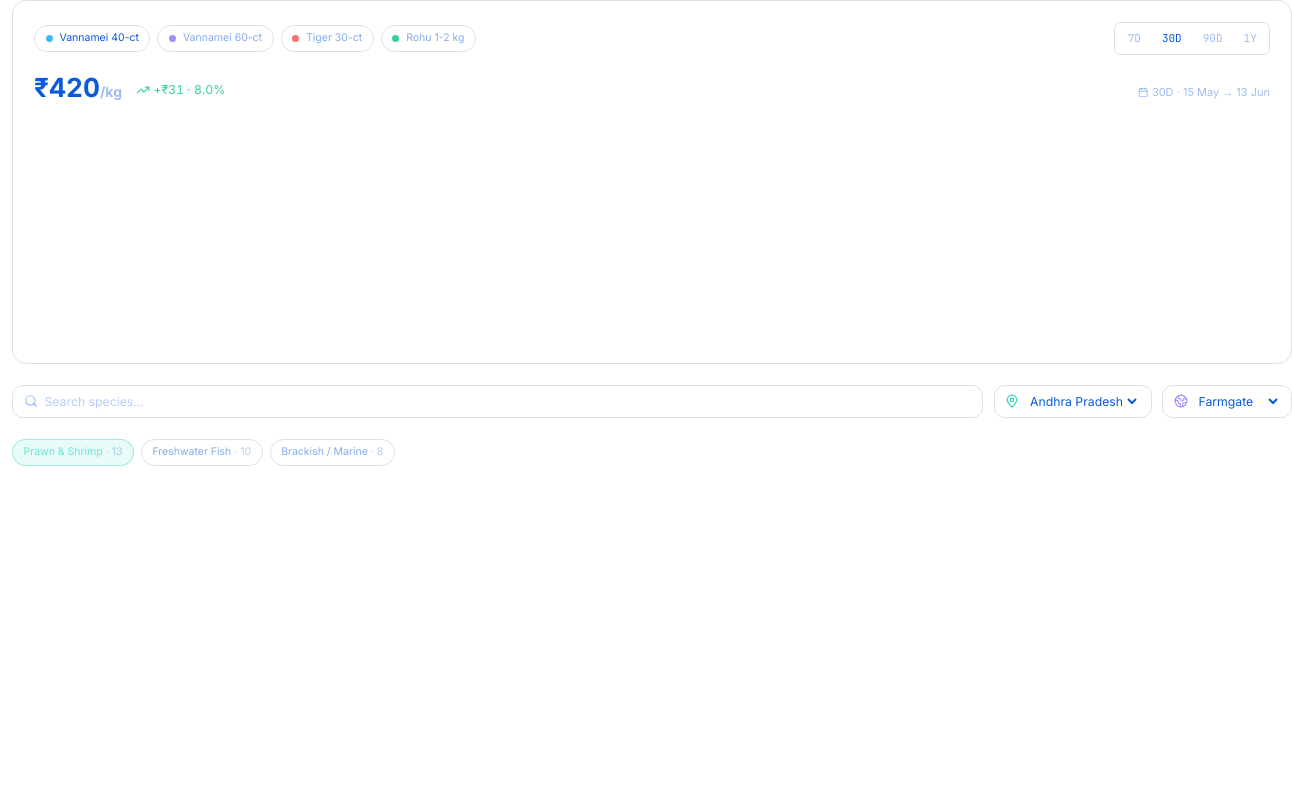
Test: <PricingModule /> › search filters the price table
In the field with placeholder "Search species…": (508, 401) [44,392,972,410], type "vannamei"
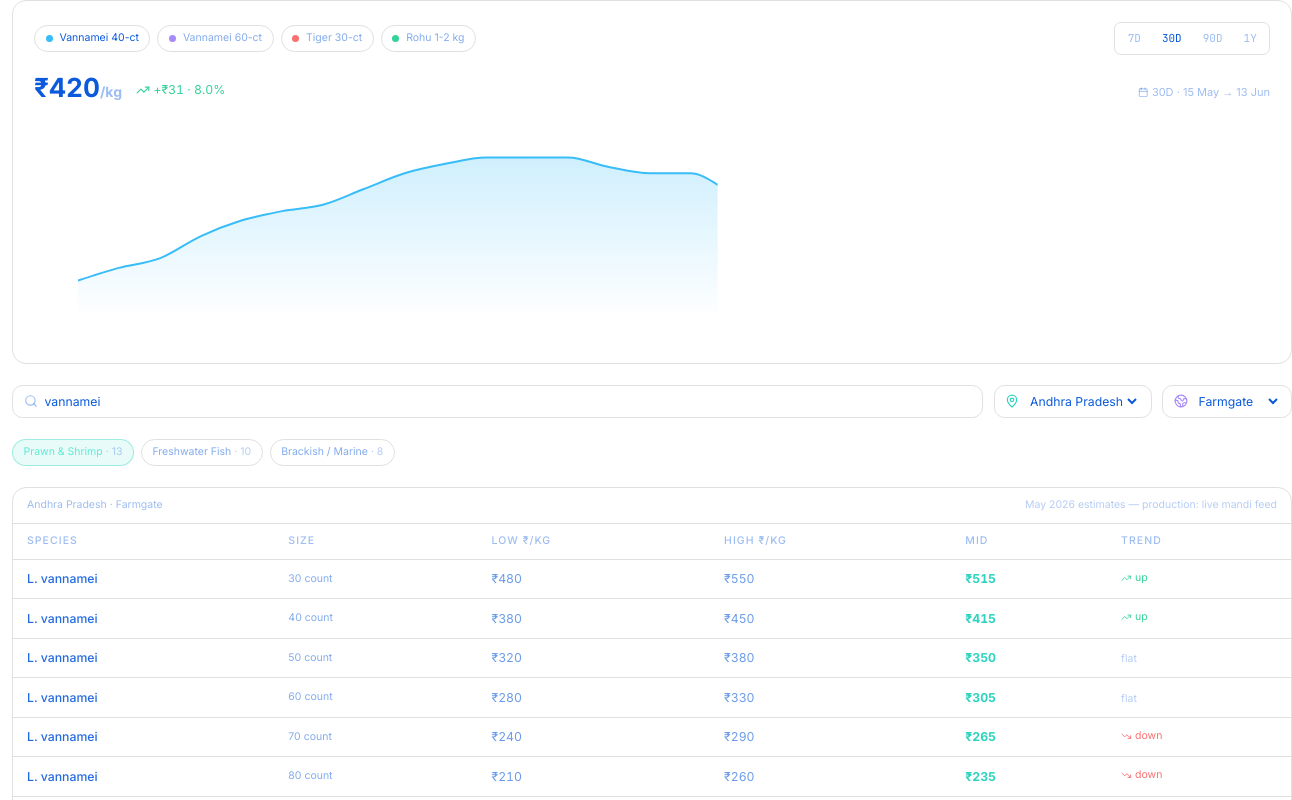
expect the text "L. vannamei" next to "30 count" is shown: met, box [27,571,98,586]
